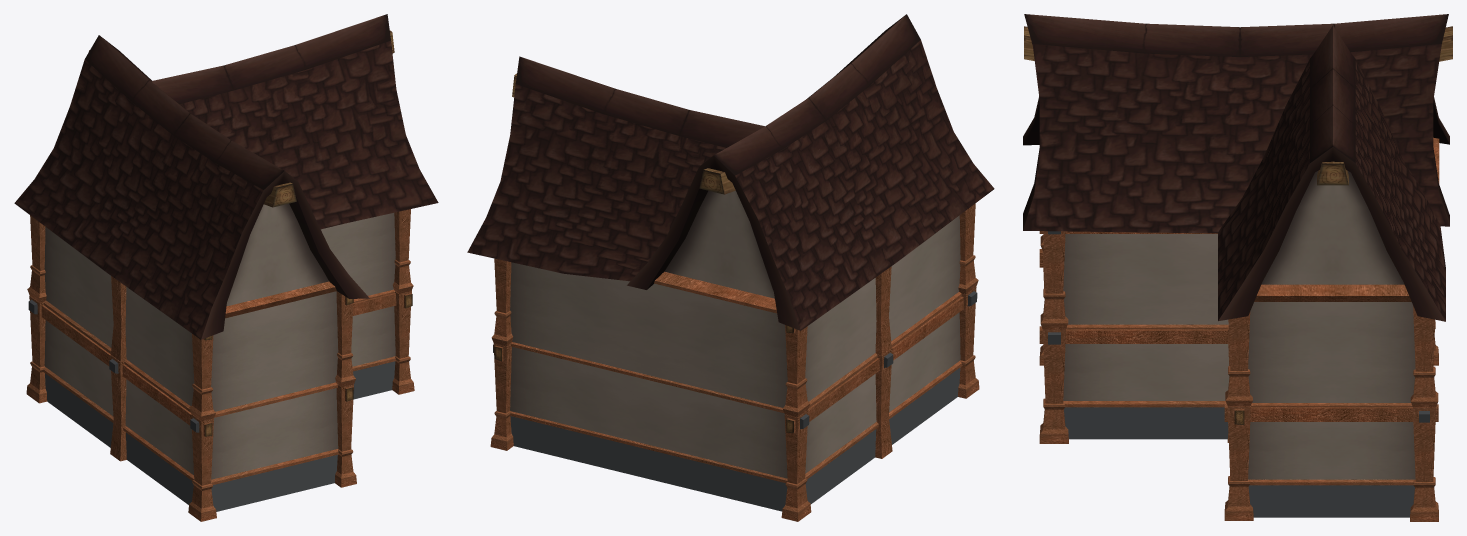
Rendered from fanasty_mod_S2_L_house.fbx.
The picture shows the model from 3 angles, left to right: view 1: azimuth 30°, elevation 25°; view 2: azimuth 150°, elevation 25°; view 3: azimuth 270°, elevation 25°; orthographic projection. The views are drawn at different scales.
Parts seen in each view (by area): view 1: s2_L_house; view 2: s2_L_house; view 3: s2_L_house.
Boxes of the visible parts, x1,y1,x2,y2 form: s2_L_house: (14,14,438,521); s2_L_house: (467,14,994,521); s2_L_house: (1023,14,1452,521).
Bounding box in the file's own units: 12.48 × 12.47 × 12.59.
